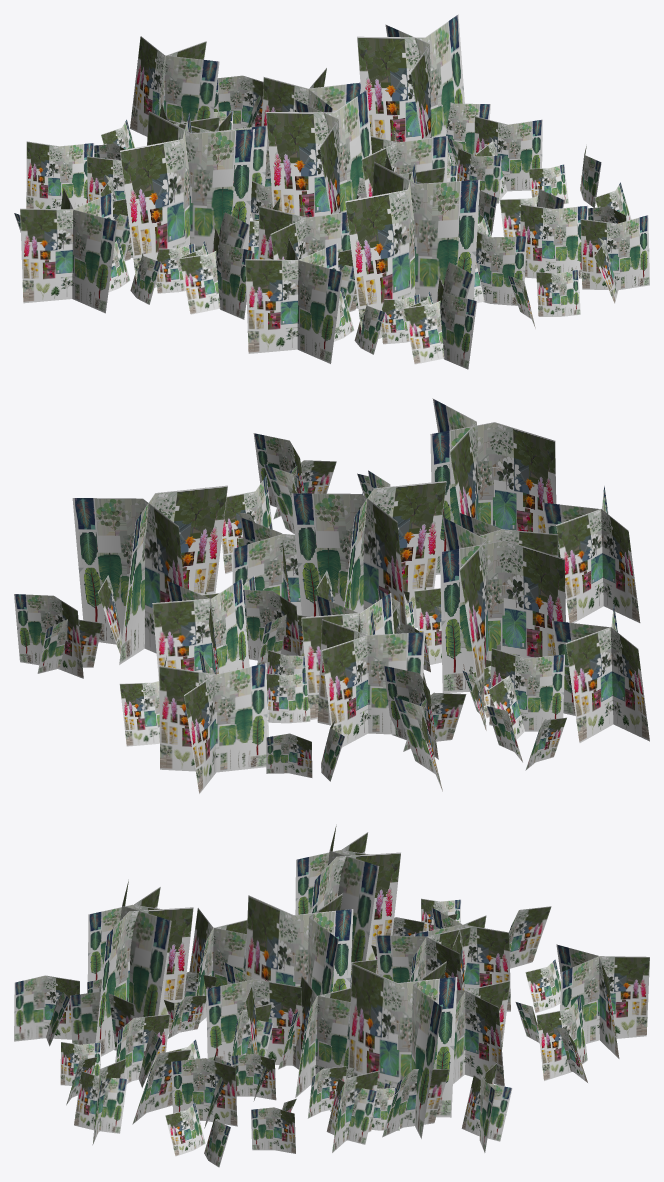
File: grass_1_1.FBX
3 renders of one model, top to bottom at view 1: azimuth 30°, elevation 25°; view 2: azimuth 150°, elevation 25°; view 3: azimuth 270°, elevation 25°, orthographic. The views are drawn at different scales.
Visible parts, largest first — view 1: gras_long; view 2: gras_long; view 3: gras_long.
Boxes of the visible parts, x1,y1,x2,y2 form: gras_long: (14,14,649,369); gras_long: (14,398,649,793); gras_long: (14,824,649,1167).
Size of the model in its own units: 361 by 90.27 by 385.
